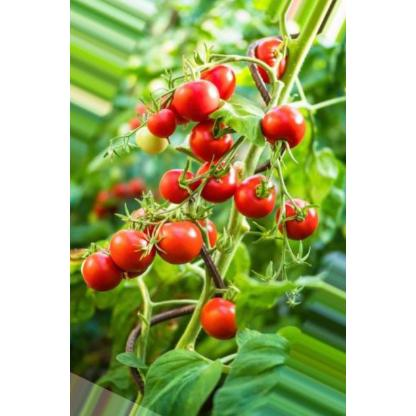tomato: (194, 280, 266, 352), (148, 209, 210, 277), (74, 247, 138, 306), (245, 95, 310, 149), (100, 220, 164, 274), (188, 152, 247, 210), (268, 188, 324, 245), (245, 28, 294, 92), (171, 72, 223, 126), (190, 56, 246, 102), (235, 169, 279, 219), (154, 165, 204, 207), (138, 103, 190, 143)
